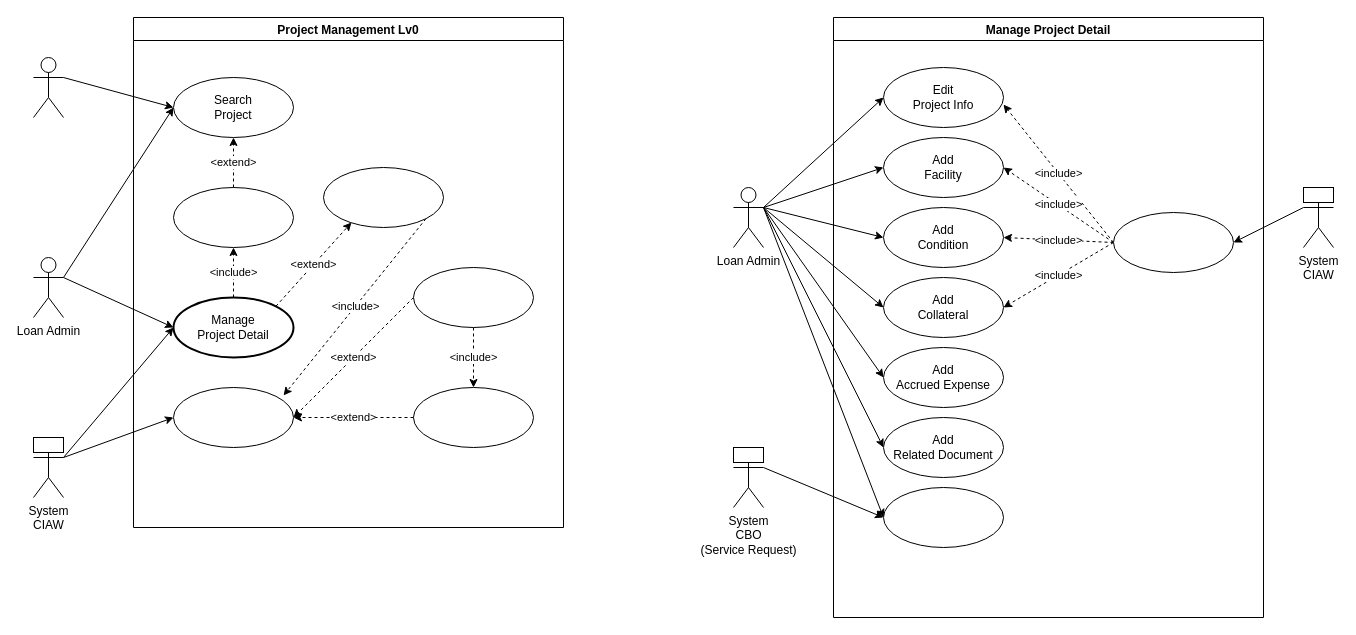
Some shapes in this 1356 by 635 pixel diagram are drawn without their labels. The shapes that lost their labels are listed below. From the top down, each one's centre as x and y in pixels, then its label:
pixel 48 87: Sale
pixel 233 217: View Project Detail
pixel 383 197: Assign Officer
pixel 1173 242: Setup Project Detail
pixel 473 297: Create Customer
pixel 233 417: Create Project
pixel 473 417: Create Group Customer
pixel 943 517: Add Payment
